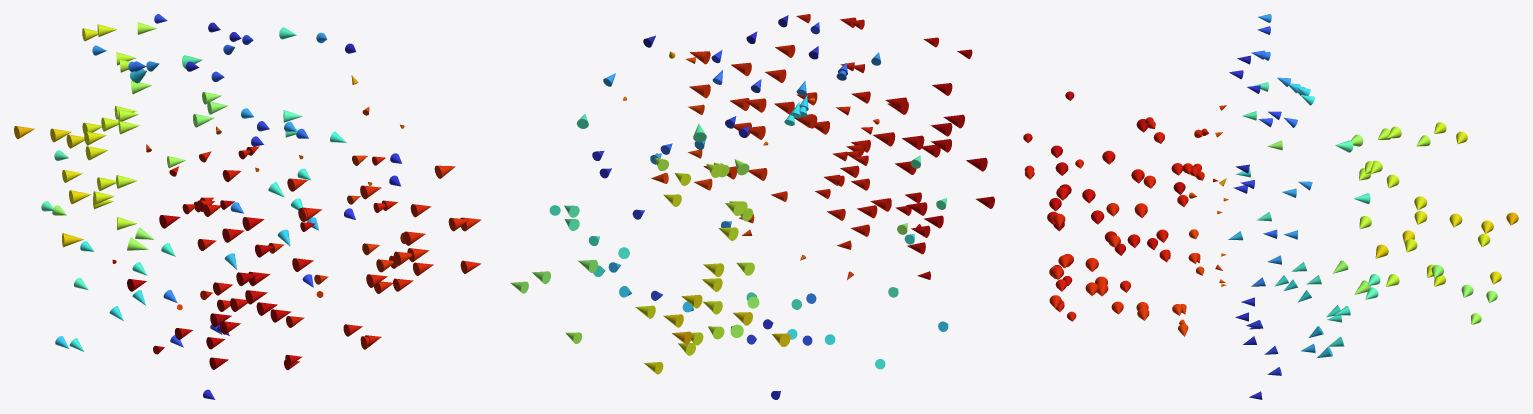
File: LineasCorrienteH2-O2_mh2-6.88_V-0.7.glb
3 views of the same model, side by side, from view 1: azimuth 30°, elevation 25°; view 2: azimuth 150°, elevation 25°; view 3: azimuth 270°, elevation 25° (orthographic). The views are drawn at different scales.
Bounding box in the file's own units: 0.000924 × 0.000967 × 0.00123.
Materials: 2 (2 with a texture image).
